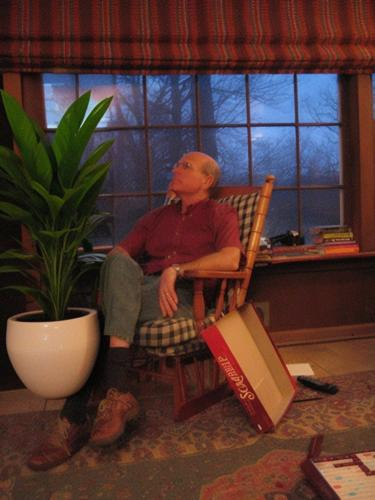chair: (91, 174, 278, 424)
person: (25, 150, 245, 474)
person/foot: (24, 418, 90, 472), (90, 391, 137, 446)
person/hand: (160, 271, 178, 316)
person/head: (166, 151, 221, 197)
pottedplant: (1, 72, 113, 399)
